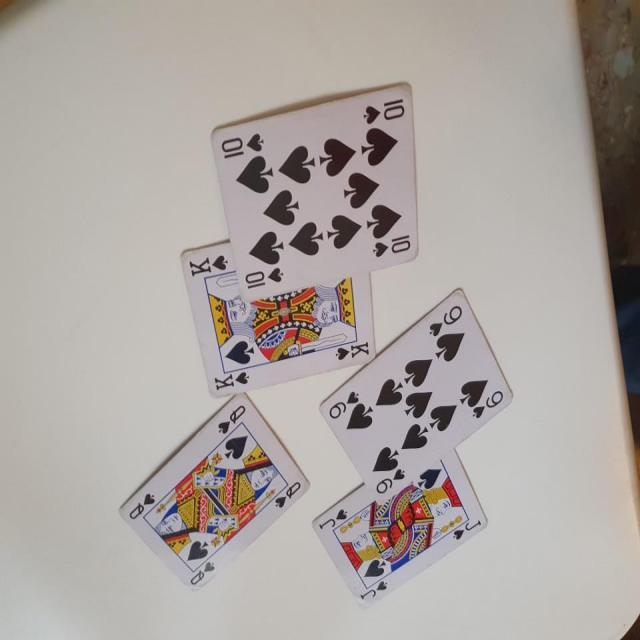10 of spades: (206, 80, 430, 299)
9 of spades: (308, 278, 516, 504)
jack of spades: (312, 448, 502, 628)
king of spades: (182, 207, 378, 405)
queen of spades: (112, 392, 309, 606)
